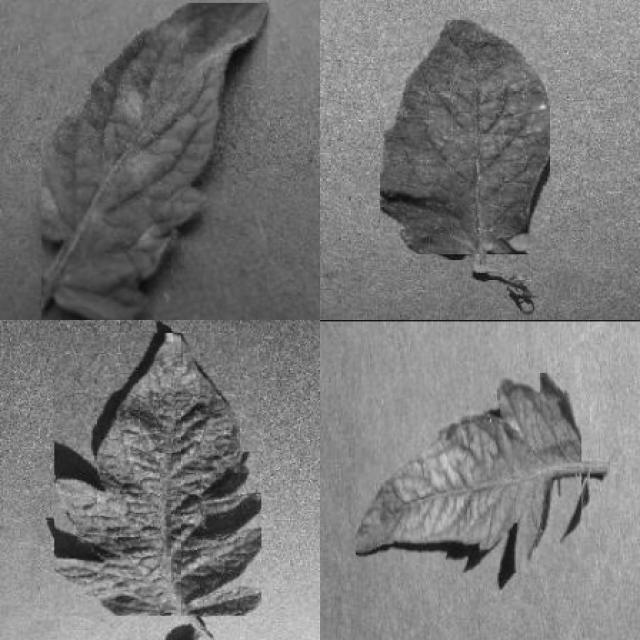Leaf Mold: (42, 3, 268, 320)
Mosaic Virus: (356, 374, 581, 574)
Spider Mites: (55, 334, 262, 616), (380, 19, 550, 254)
